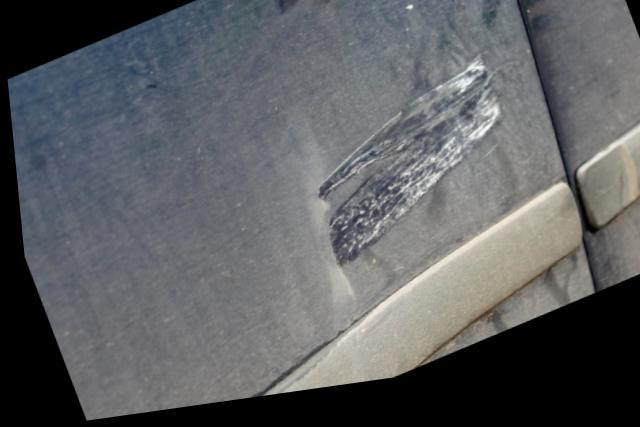scratch: (308, 65, 504, 283)
